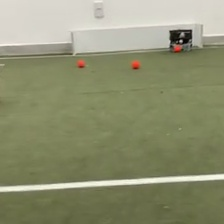ball: (132, 60, 140, 69), (173, 44, 181, 52), (78, 59, 85, 67)
goal: (69, 22, 204, 56)
robot: (167, 28, 193, 52)
